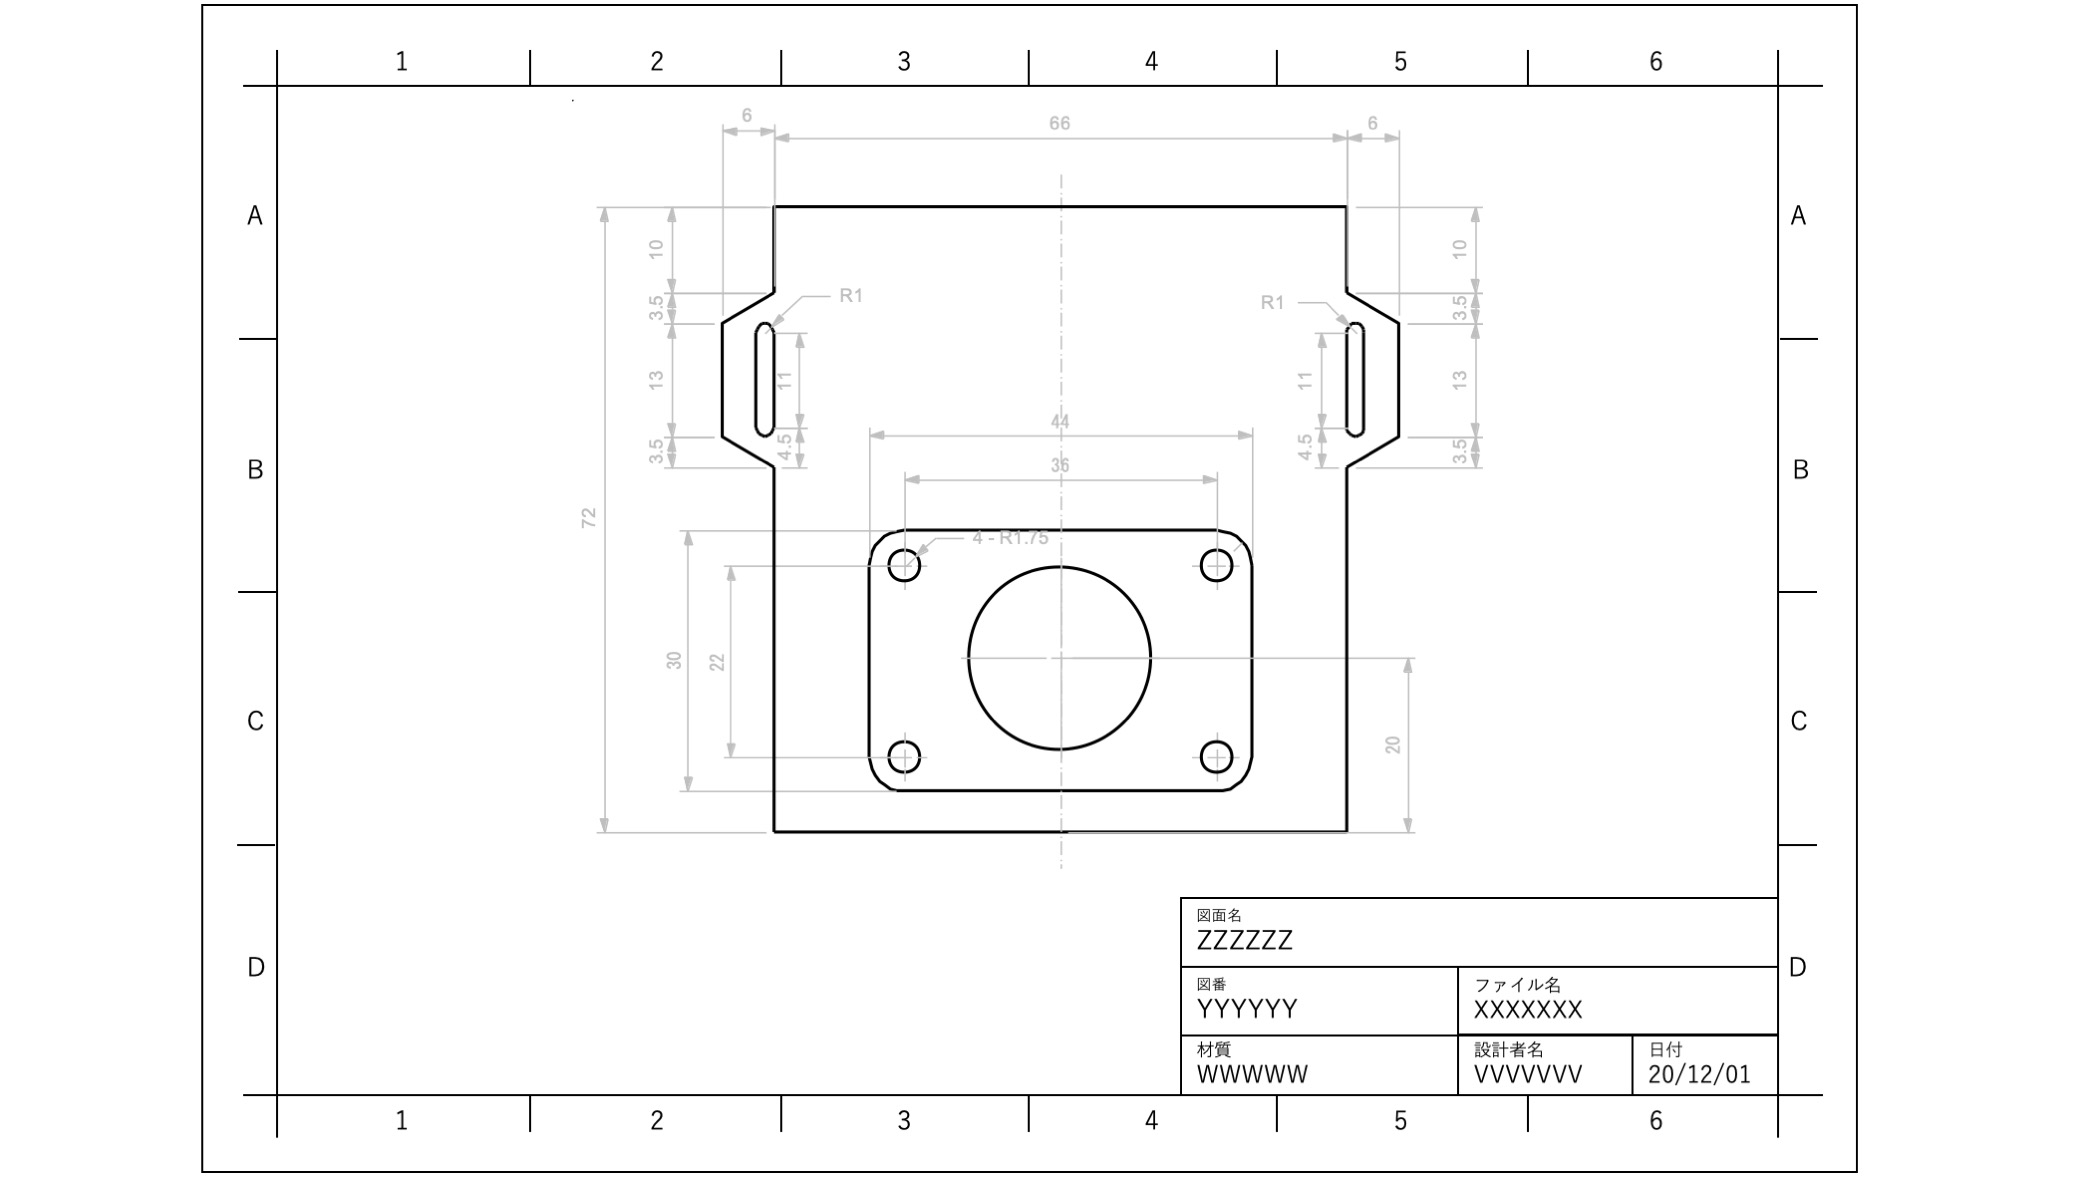circle: (956, 558, 1160, 761), (878, 542, 942, 583), (878, 730, 930, 776), (1196, 727, 1236, 782), (1190, 542, 1240, 585)
round_rectangle: (1333, 313, 1372, 444), (751, 304, 780, 446)
